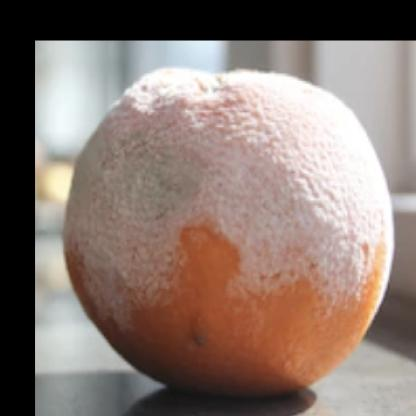rotten: (63, 68, 398, 397)
